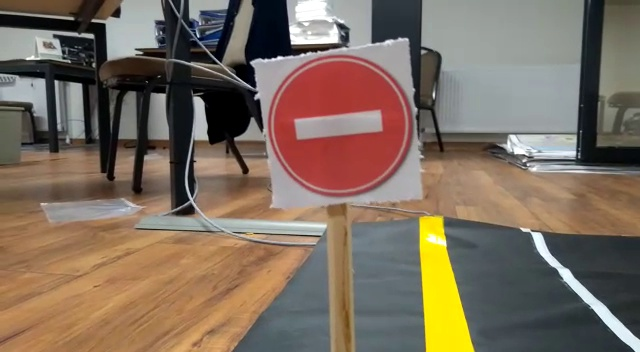girisi_olmayan_yol: (266, 48, 413, 201)
